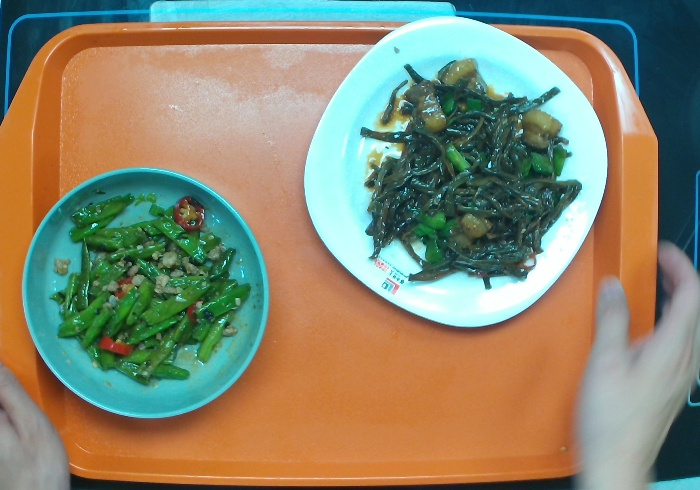ZNLD-Qing_Hua_Yuan_Wan: (14, 159, 271, 424)
ZNLD-Yuan_Jiao_Pan: (299, 14, 613, 332)
